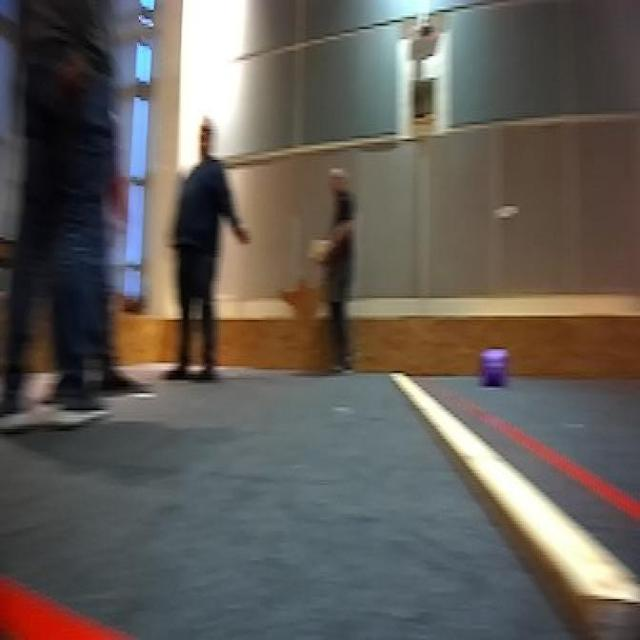frc_cube: (479, 347, 510, 392)
